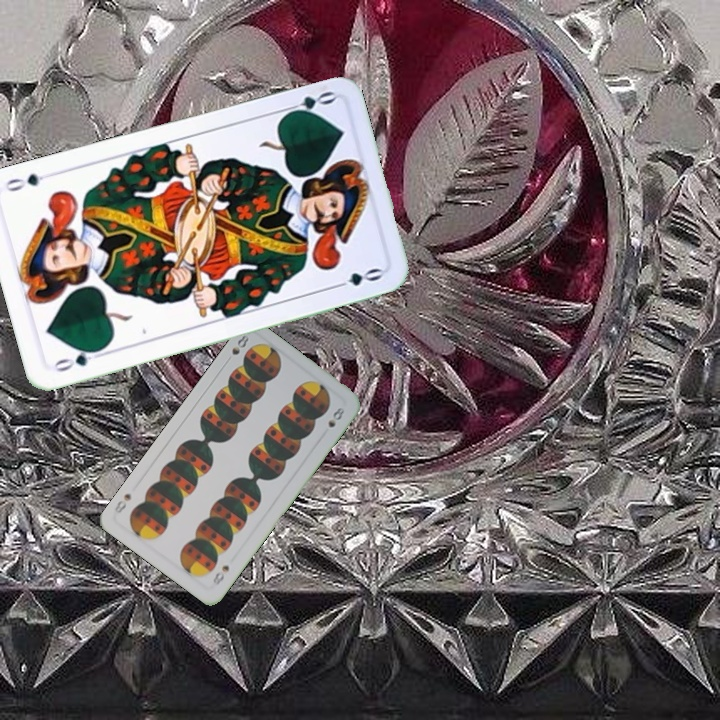GO: (278, 87, 337, 119), (48, 344, 107, 375)
S8: (221, 329, 252, 366), (208, 561, 232, 589)
